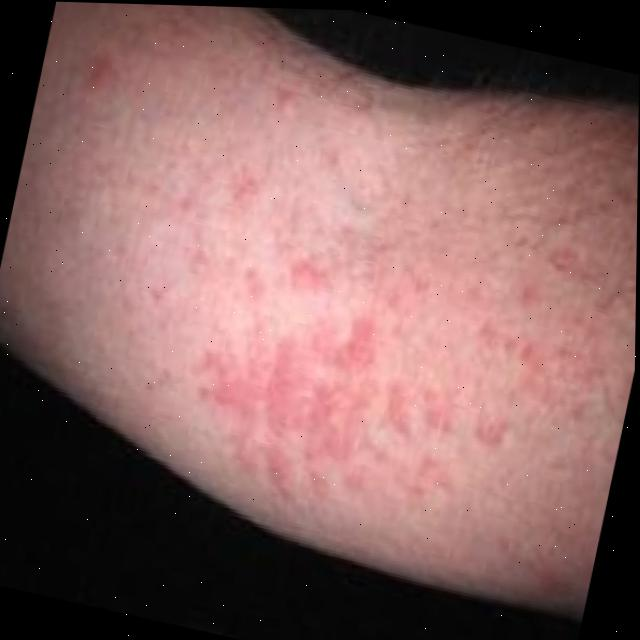Eczema: (100, 41, 605, 531)
